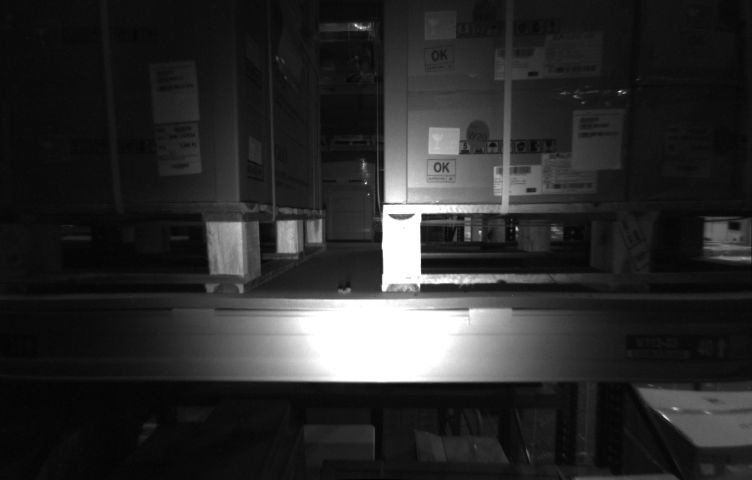True Barcode: (666, 121, 714, 182), (156, 121, 198, 178)
